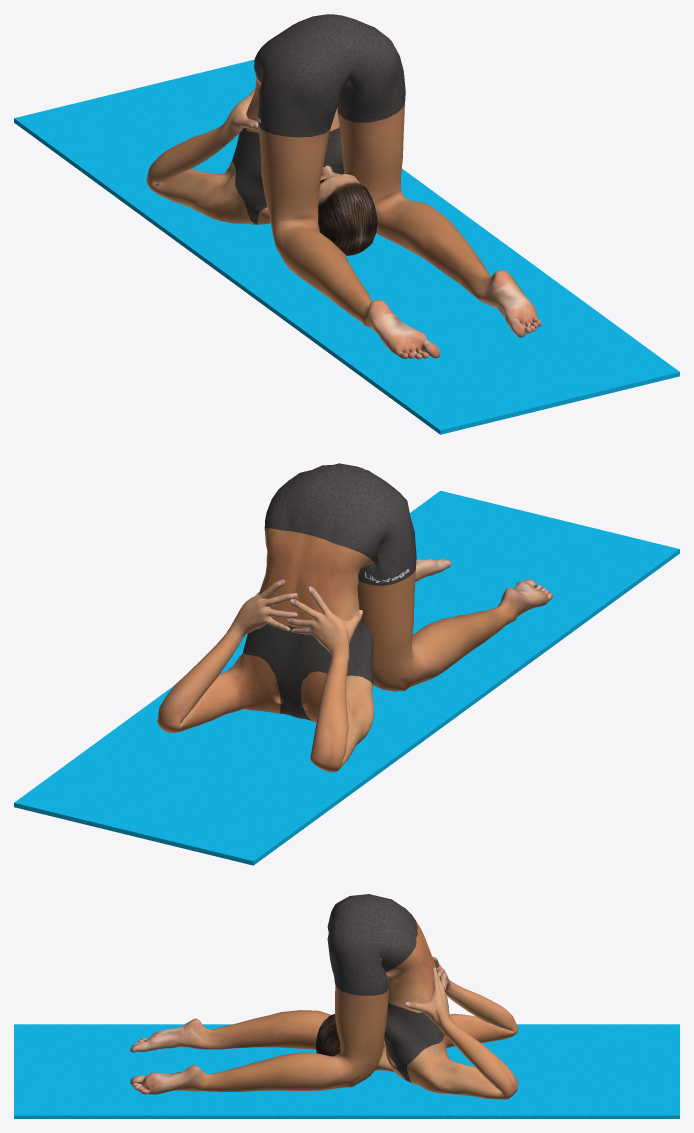
File: karnapidasana.glb
3 views of the same model, one above another, from view 1: azimuth 30°, elevation 25°; view 2: azimuth 150°, elevation 25°; view 3: azimuth 270°, elevation 25° (orthographic). The views are drawn at different scales.
Visible parts, largest first — view 1: Mat-one-piece_jpg-material, Lily_Texture2017-07-24Yellower_jpg-material; view 2: Mat-one-piece_jpg-material, Lily_Texture2017-07-24Yellower_jpg-material; view 3: Mat-one-piece_jpg-material, Lily_Texture2017-07-24Yellower_jpg-material.
Boxes of the visible parts, x1,y1,x2,y2 form: Mat-one-piece_jpg-material: [14, 60, 679, 434]; Lily_Texture2017-07-24Yellower_jpg-material: [146, 14, 541, 359]; Mat-one-piece_jpg-material: [14, 490, 679, 865]; Lily_Texture2017-07-24Yellower_jpg-material: [157, 463, 552, 772]; Mat-one-piece_jpg-material: [14, 1024, 679, 1118]; Lily_Texture2017-07-24Yellower_jpg-material: [130, 894, 518, 1099].
Bounding box in the file's own units: 2 × 1.75 × 6.17.
3 materials, 2 textured.
